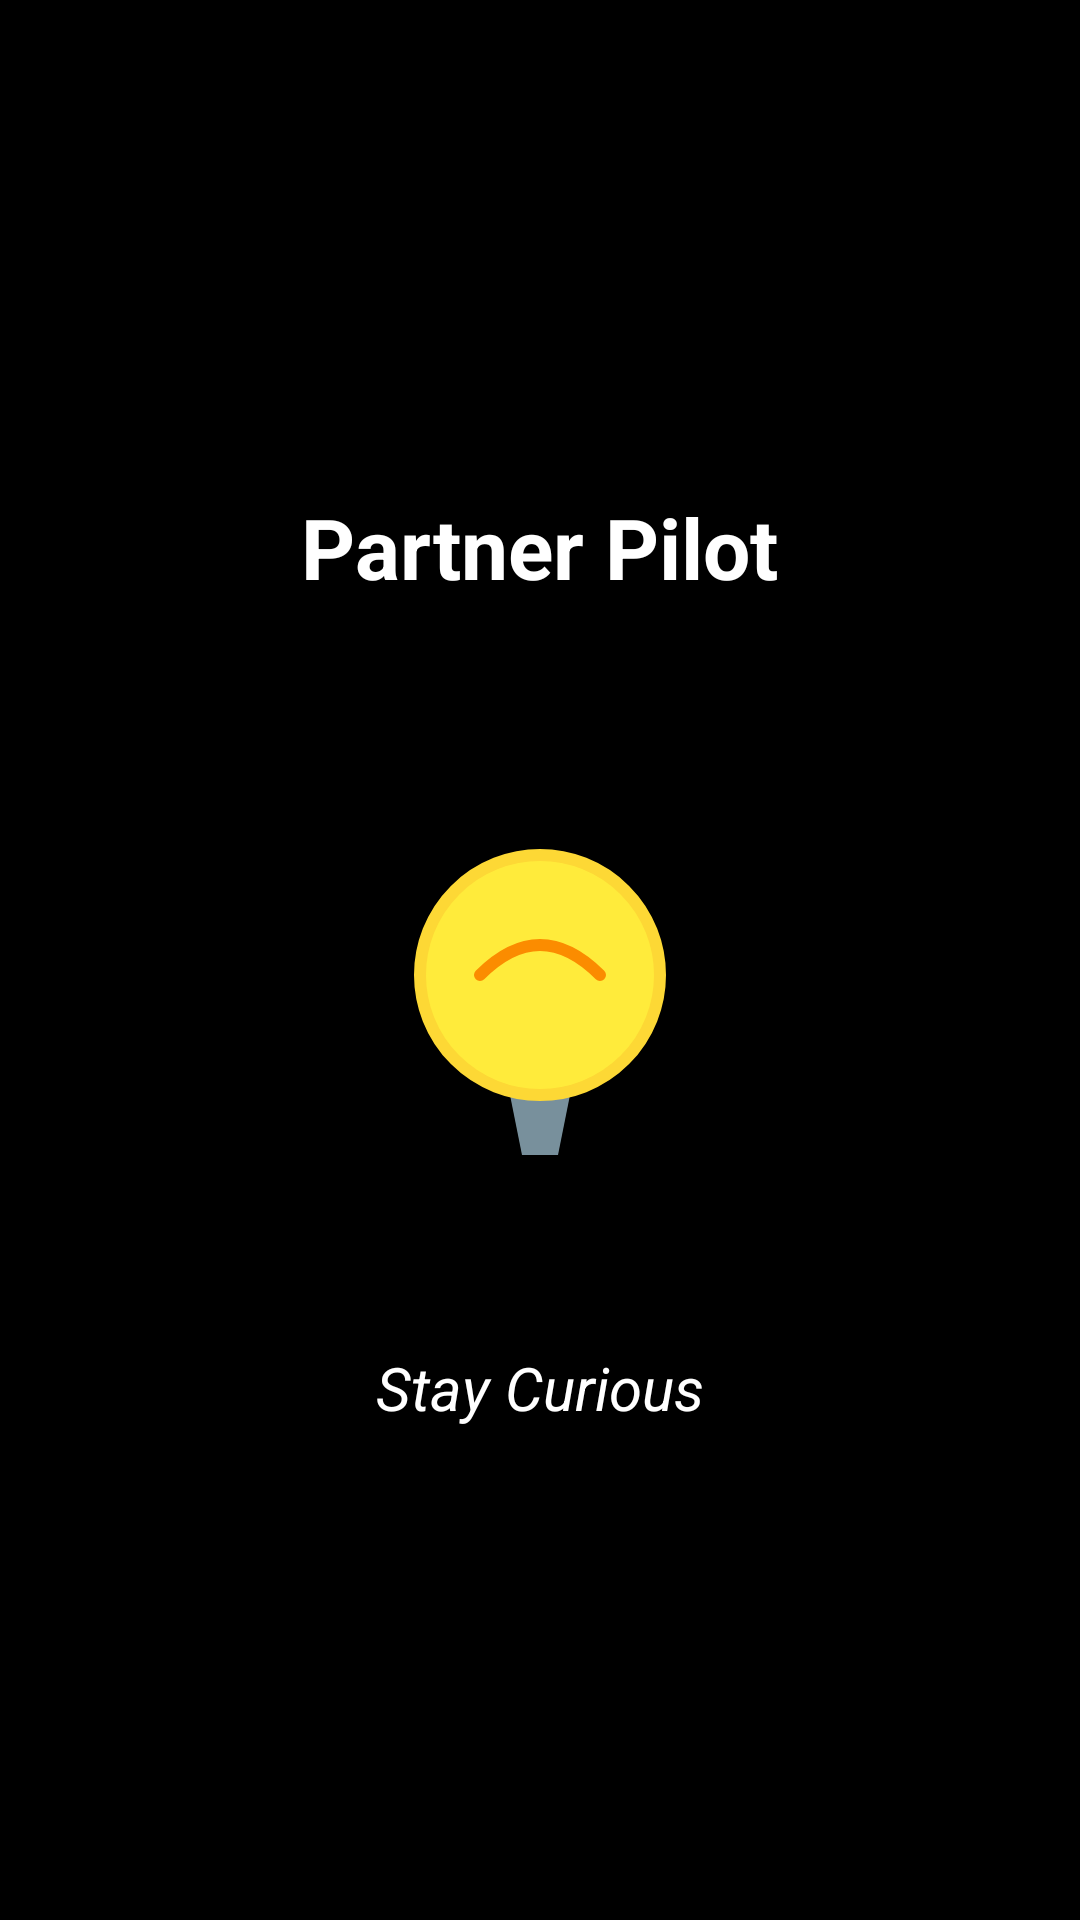

Screen size 1080w x 1920h. Icon name, then its center in pixels as (x,y):
animated bulb: (540,1002)
